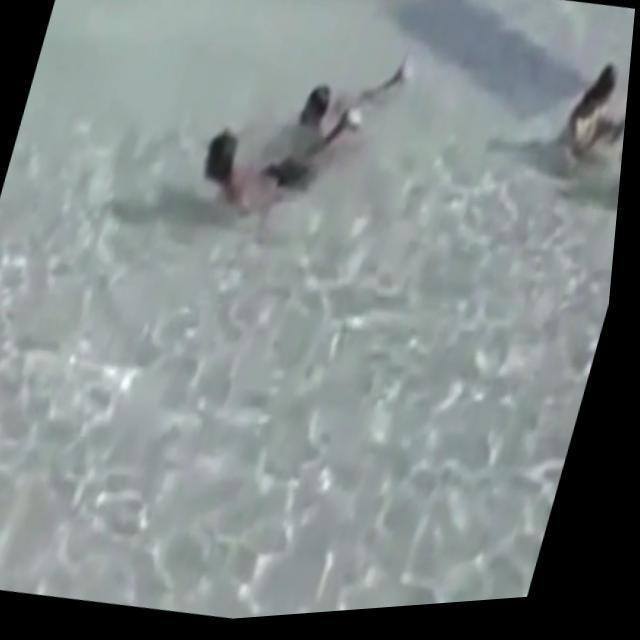swimming: (168, 101, 348, 227), (291, 69, 468, 160)
